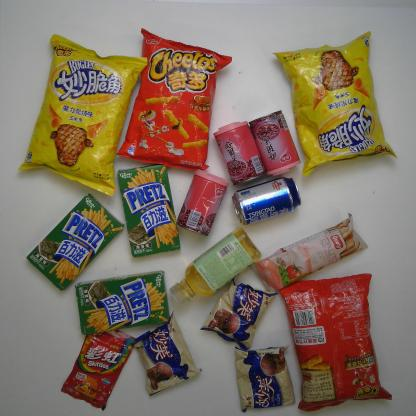Alcohol: (231, 176, 304, 228)
Candy: (60, 325, 138, 413)
Canned Food: (176, 167, 230, 239), (247, 109, 302, 179), (213, 119, 267, 187)
Dessert: (24, 192, 126, 294), (249, 212, 370, 293), (72, 269, 174, 336), (116, 162, 183, 260), (198, 275, 280, 353), (132, 310, 203, 398), (233, 344, 297, 413)
Drink: (168, 226, 262, 309)
Puffed Food: (17, 32, 150, 198), (272, 29, 400, 179), (114, 25, 233, 172), (276, 270, 393, 413)
